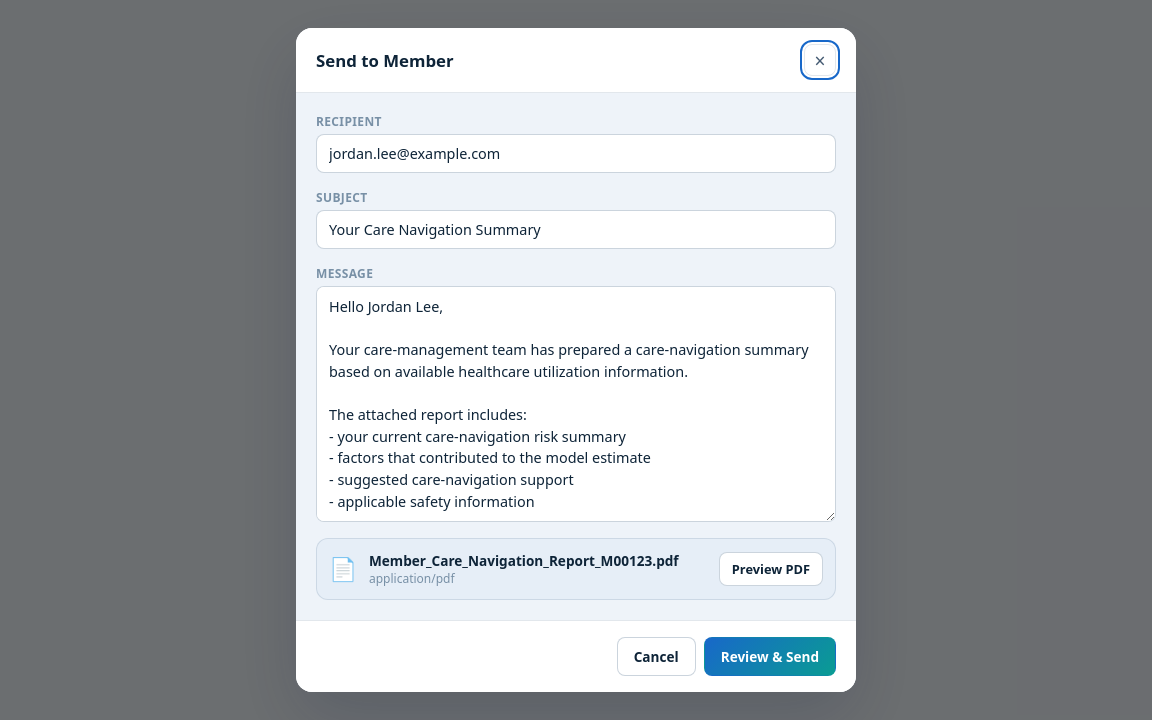
it: EmailComposerModal › cancelling the confirmation prompt never sends
Click the button "Review & Send".
click(770, 656)  # box [704,637,836,676]
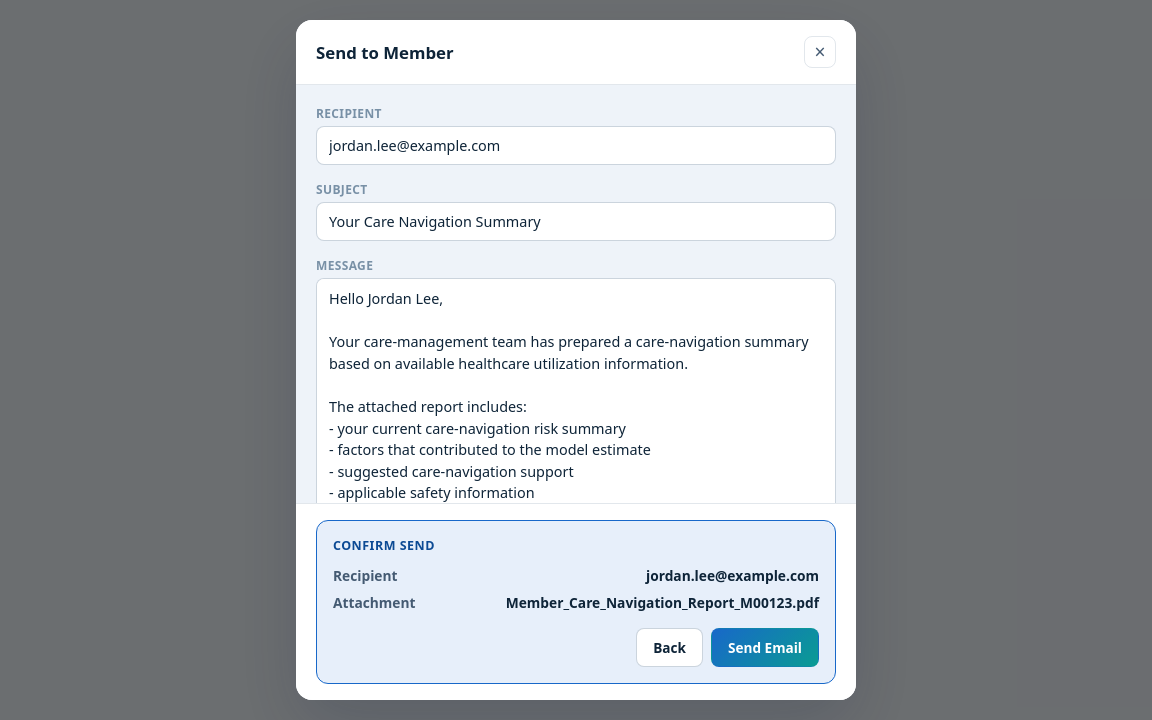
Click the button "Back".
click(670, 648)  # box [636,628,703,667]
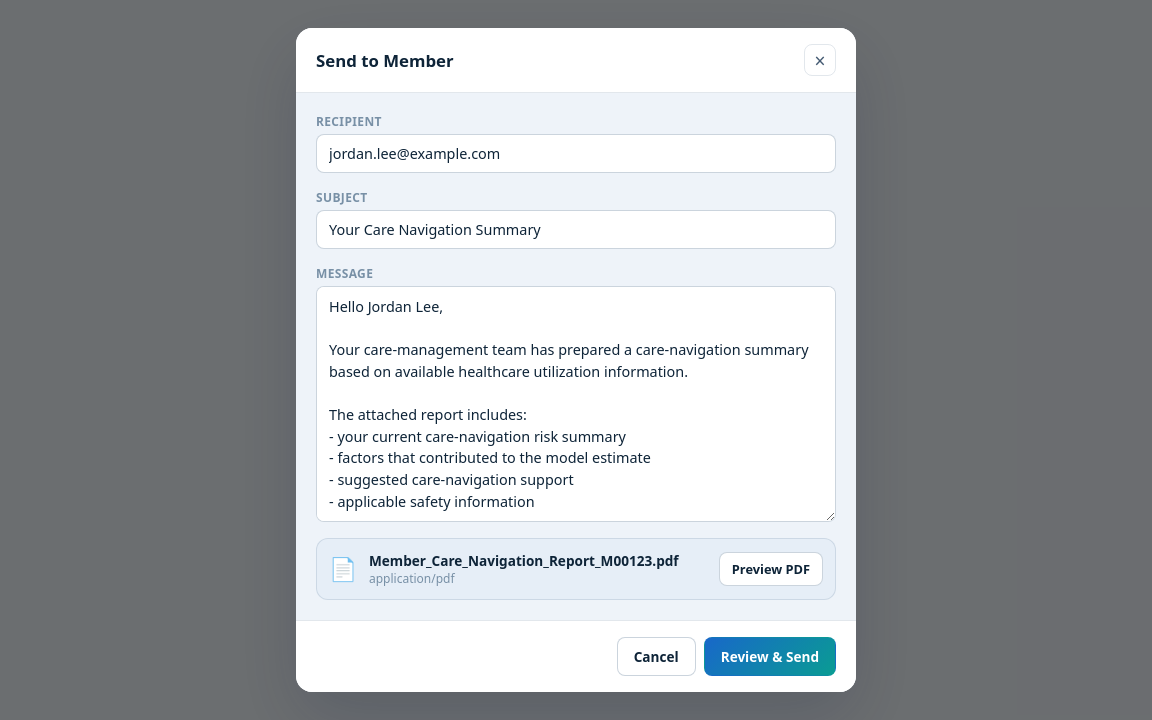
Expected: the text "Confirm Send" is gone
